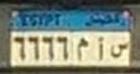6: (41, 35, 56, 63), (13, 35, 26, 62), (56, 35, 69, 60), (28, 35, 40, 61)
alif: (96, 36, 106, 62)
meem: (74, 36, 89, 63)
seen: (109, 41, 129, 60)
